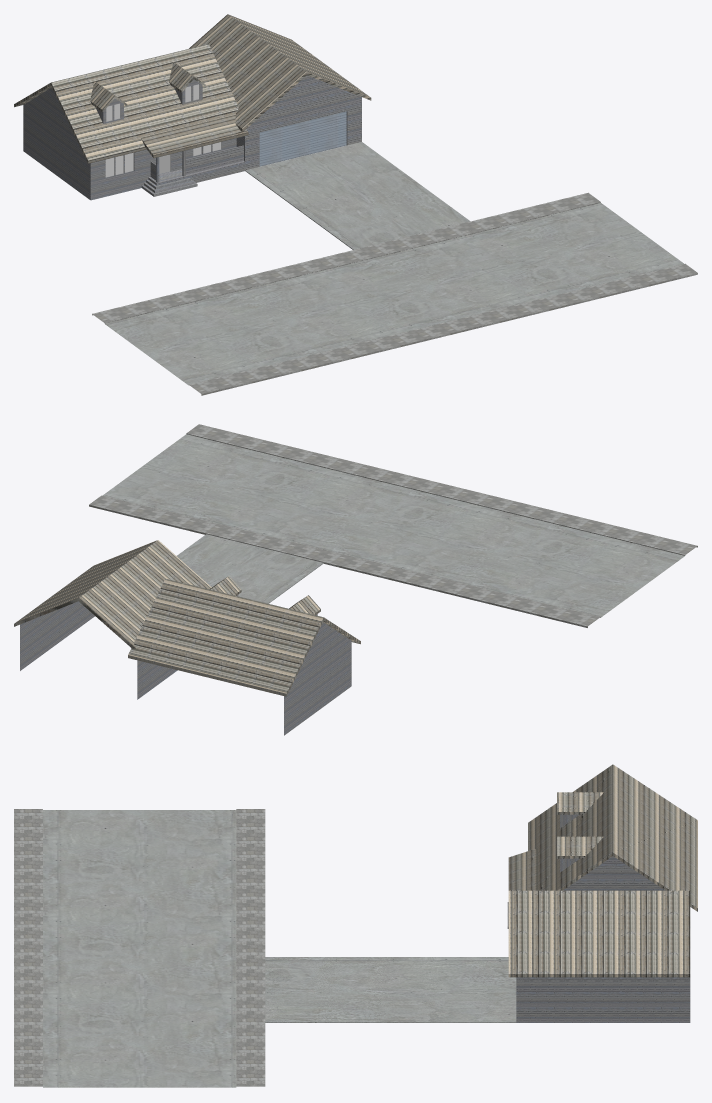
The model's file is Layout.fbx.
3 views of the same model, one above another, from view 1: azimuth 30°, elevation 25°; view 2: azimuth 150°, elevation 25°; view 3: azimuth 270°, elevation 25° (orthographic). The views are drawn at different scales.
Visible parts, largest first — view 1: Road, House, Grass; view 2: Road, House, Grass; view 3: Road, House, Grass.
Part boxes in pixels (x1,y1,x2,y2): Road: (92,192,697,395); House: (14,14,371,200); Grass: (245,142,470,249); Road: (89,424,697,627); House: (14,540,360,735); Grass: (177,534,323,603); Road: (14,809,265,1087); House: (507,764,697,1022); Grass: (265,957,516,1022).
Bounding box in the file's own units: 34 × 6.21 × 35.4.
